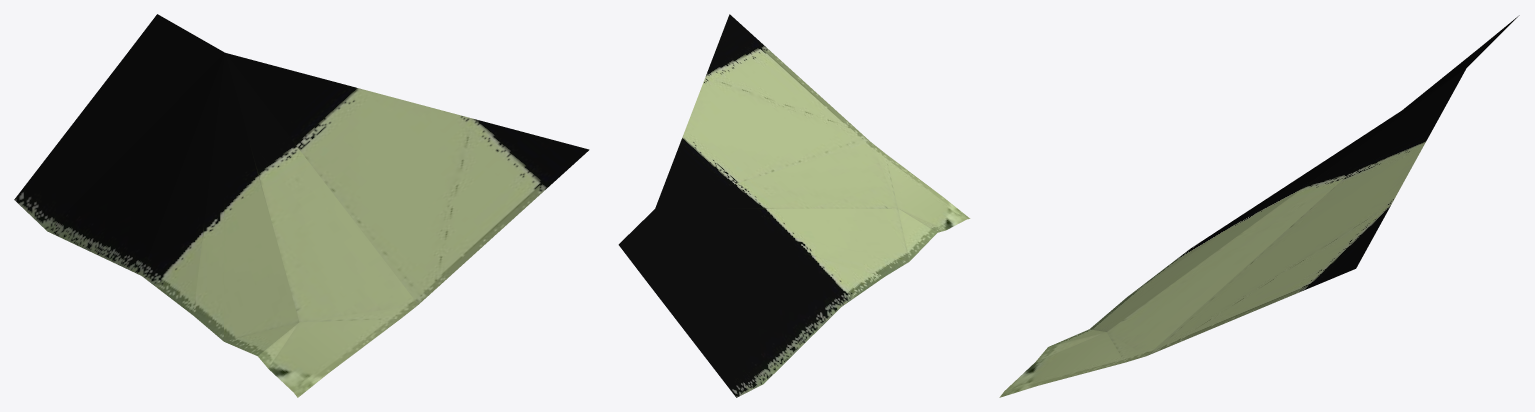
3 renders of one model, left to right at view 1: azimuth 30°, elevation 25°; view 2: azimuth 150°, elevation 25°; view 3: azimuth 330°, elevation 25°, orthographic. The views are drawn at different scales.
Bounding box in the file's own units: 7.01 × 4.45 × 11.8.
2 materials, 2 textured.
